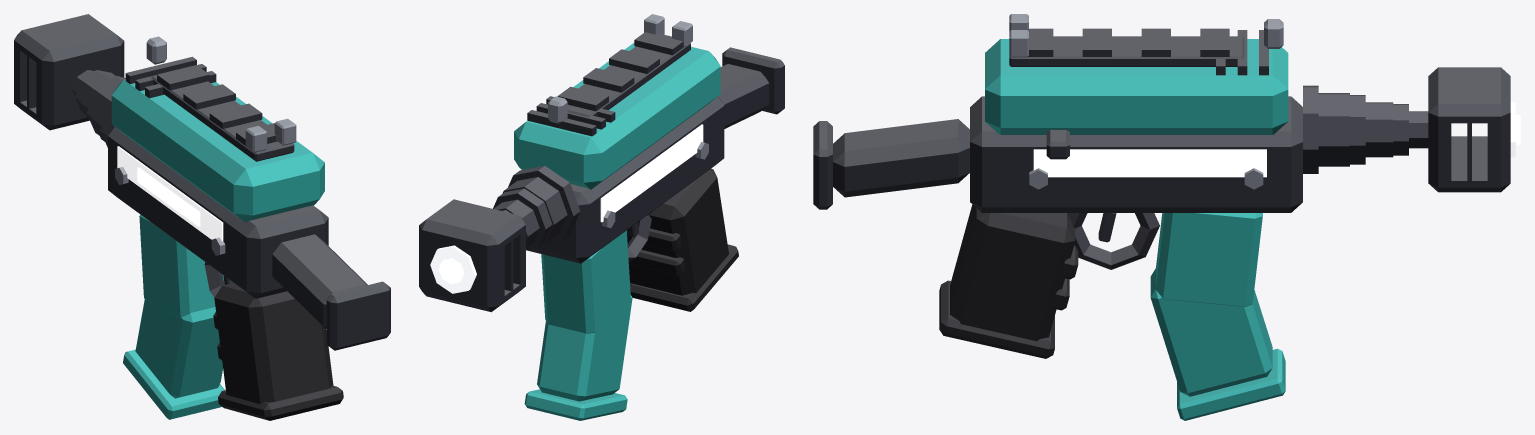
Rendered from Burst.glb.
The picture shows the model from 3 angles, left to right: view 1: azimuth 30°, elevation 25°; view 2: azimuth 150°, elevation 25°; view 3: azimuth 270°, elevation 25°; orthographic projection. The views are drawn at different scales.
Parts seen in each view (by area): view 1: Body, Halo_Glow, Accent_Glow; view 2: Body, Halo_Glow, Accent_Glow; view 3: Body, Halo_Glow, Accent_Glow.
Boxes of the visible parts, left/top/right/bottom form: Body: left=14, top=14, right=390, bottom=420; Halo_Glow: left=117, top=146, right=223, bottom=241; Accent_Glow: left=137, top=167, right=200, bottom=226; Body: left=419, top=14, right=784, bottom=420; Halo_Glow: left=430, top=124, right=703, bottom=293; Accent_Glow: left=438, top=144, right=683, bottom=284; Body: left=813, top=14, right=1510, bottom=420; Halo_Glow: left=1033, top=102, right=1515, bottom=177; Accent_Glow: left=1081, top=115, right=1520, bottom=172.
Bounding box in the file's own units: 0.745 × 2.17 × 3.61.
